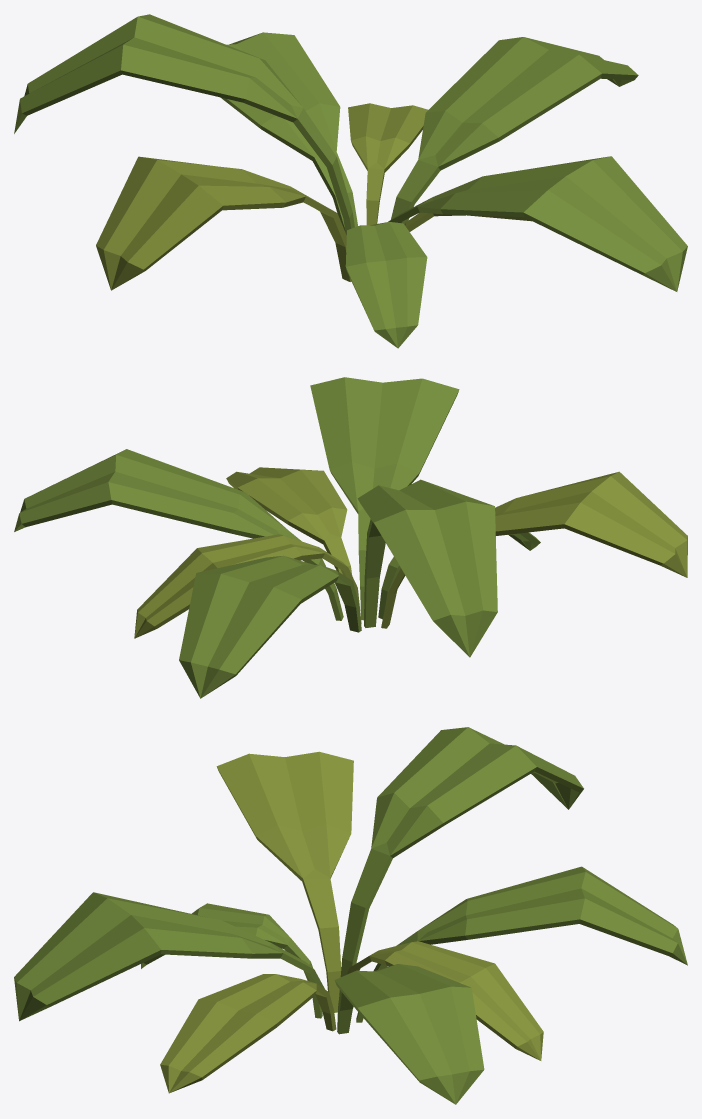
Rendered from Plants_1.fbx.
The picture shows the model from 3 angles, top to bottom: view 1: azimuth 30°, elevation 25°; view 2: azimuth 150°, elevation 25°; view 3: azimuth 270°, elevation 25°; orthographic projection. The views are drawn at different scales.
Visible parts, largest first — view 1: Plant_1; view 2: Plant_1; view 3: Plant_1.
Boxes of the visible parts, x1=… form: Plant_1: x1=14, y1=14, x2=687, y2=348; Plant_1: x1=14, y1=377, x2=687, y2=698; Plant_1: x1=14, y1=727, x2=687, y2=1104.
Size of the model in its own units: 160 by 55.13 by 159.
